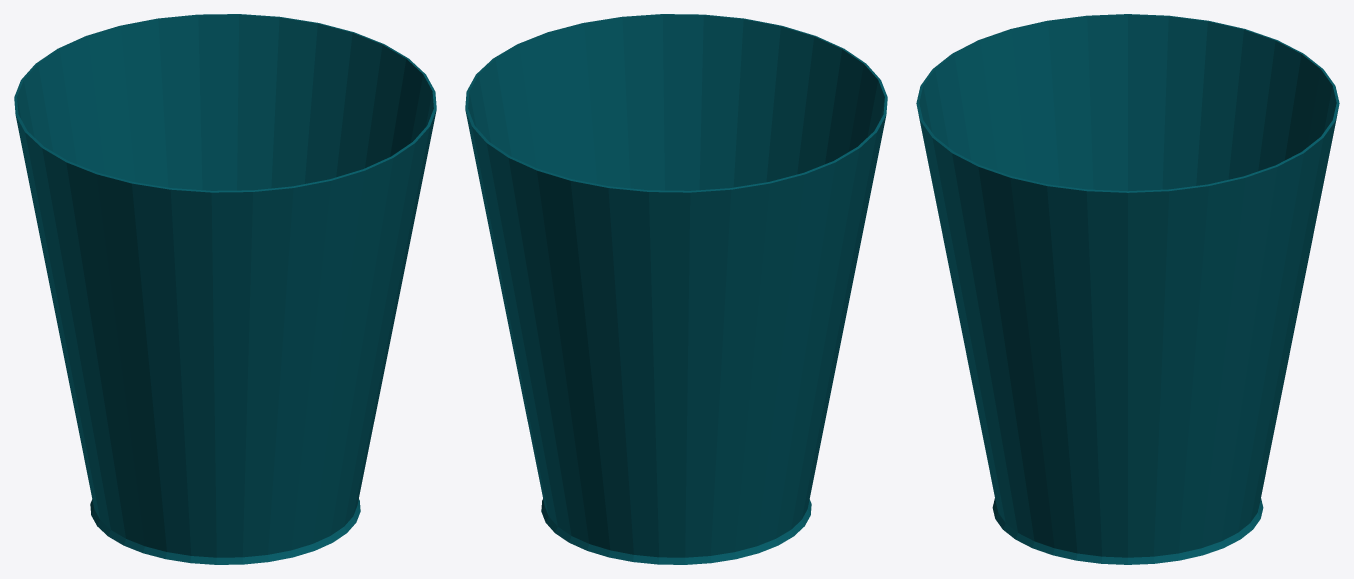
File: OfficeBin.fbx
The picture shows the model from 3 angles, left to right: view 1: azimuth 30°, elevation 25°; view 2: azimuth 150°, elevation 25°; view 3: azimuth 270°, elevation 25°; orthographic projection.
Parts seen in each view (by area): view 1: OfficeBin; view 2: OfficeBin; view 3: OfficeBin.
Boxes of the visible parts, bbox=[...] form: OfficeBin: bbox=[14, 14, 436, 564]; OfficeBin: bbox=[465, 14, 887, 564]; OfficeBin: bbox=[916, 14, 1339, 564].
Size of the model in its own units: 32.48 by 32.48 by 34.27.
